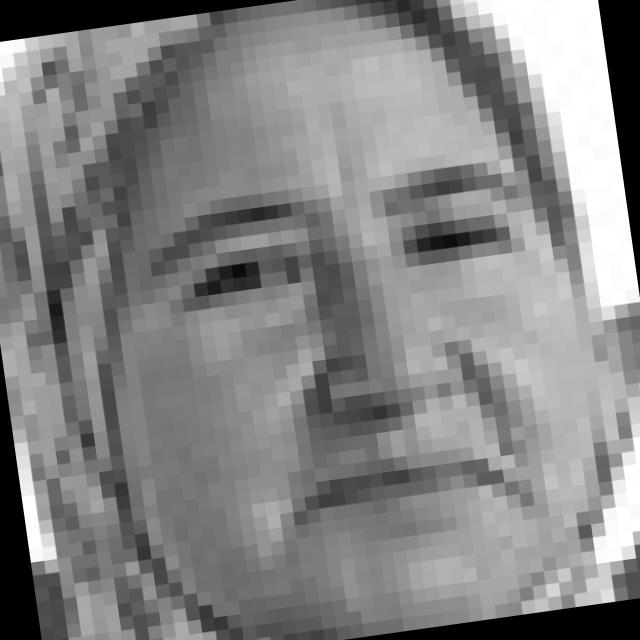neutral: (118, 136, 576, 575)
